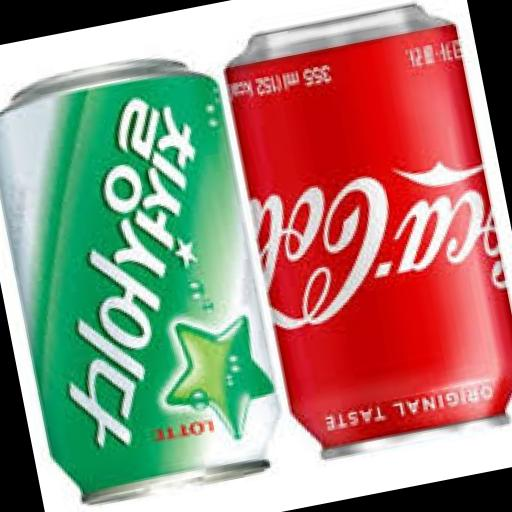Coca: (211, 0, 512, 474)
